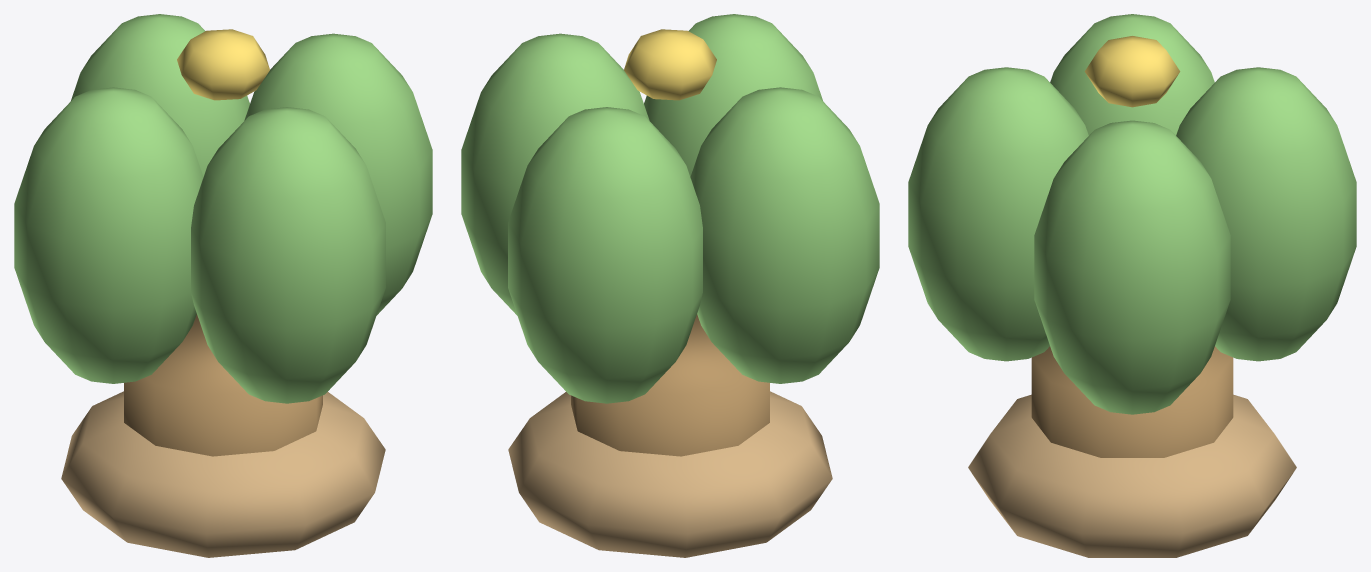
File: healing_clover_grown.fbx
3 renders of one model, left to right at view 1: azimuth 30°, elevation 25°; view 2: azimuth 150°, elevation 25°; view 3: azimuth 270°, elevation 25°, orthographic.
Visible parts, largest first — view 1: PLQ_healing_clover_grown; view 2: PLQ_healing_clover_grown; view 3: PLQ_healing_clover_grown.
Boxes of the visible parts, <box> form: PLQ_healing_clover_grown: <box>14,14,432,557</box>; PLQ_healing_clover_grown: <box>461,14,879,557</box>; PLQ_healing_clover_grown: <box>908,14,1356,557</box>.
Size of the model in its own units: 82.72 by 100 by 82.72.
